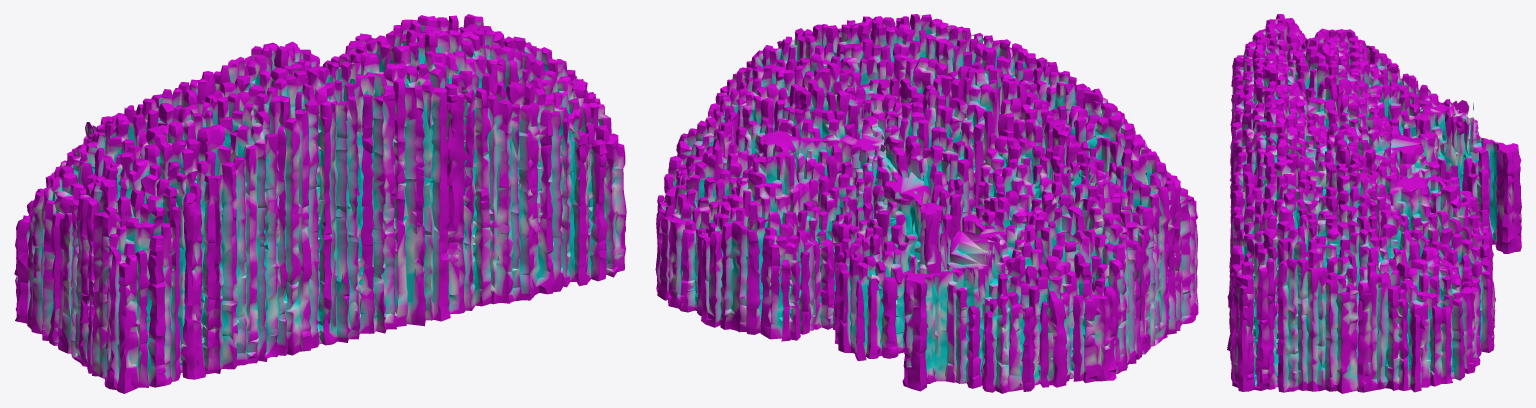
The model's file is Macico_Vilas.fbx.
3 views of the same model, side by side, from view 1: azimuth 30°, elevation 25°; view 2: azimuth 150°, elevation 25°; view 3: azimuth 270°, elevation 25° (orthographic). The views are drawn at different scales.
Parts seen in each view (by area): view 1: Macico_Vilas; view 2: Macico_Vilas; view 3: Macico_Vilas.
Boxes of the visible parts, x1,y1,x2,y2 form: Macico_Vilas: (14, 14, 626, 393); Macico_Vilas: (655, 14, 1198, 393); Macico_Vilas: (1227, 14, 1521, 393).
Bounding box in the file's own units: 1273 × 663 × 749.
